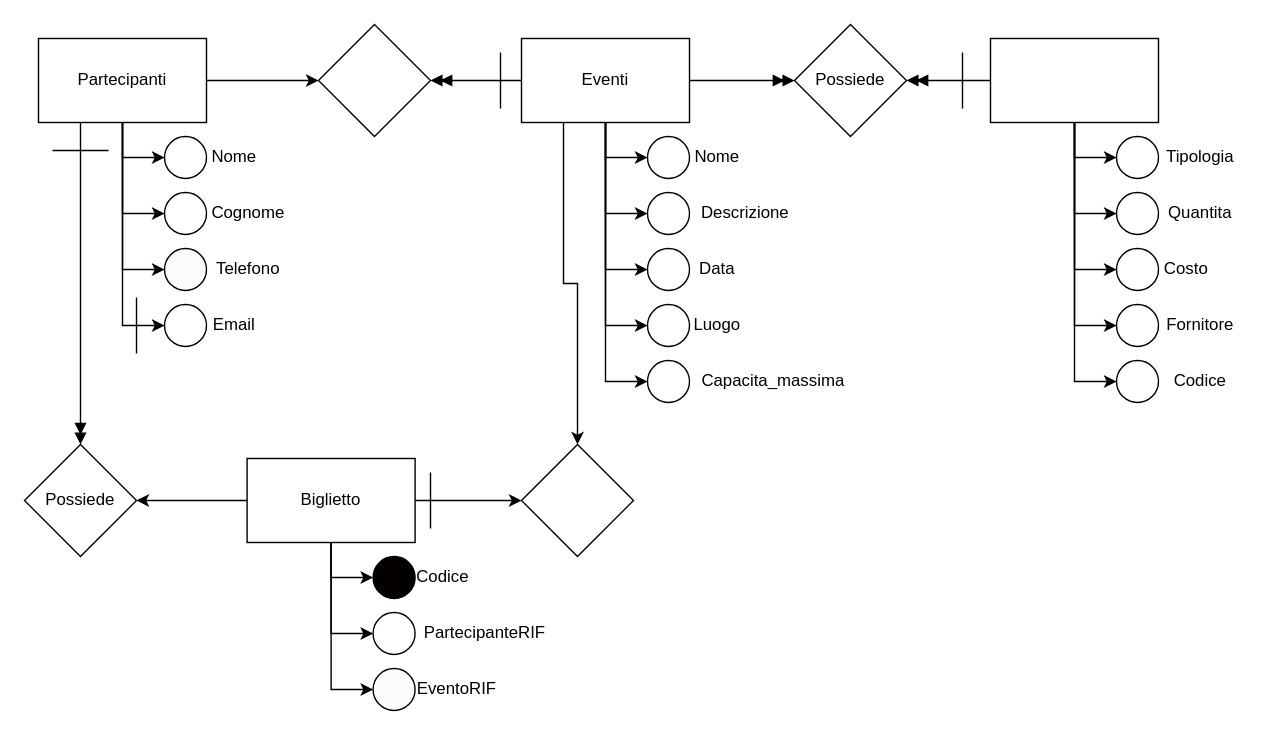
The diagram is 1267 pixels wide and 735 high, and some of its shapes have lost their labels. Here are the shapes that lost their labels. From the top down, the centre of each, then its label:
At (373,79): "Partecipa".
At (1073,79): "Risorse".
